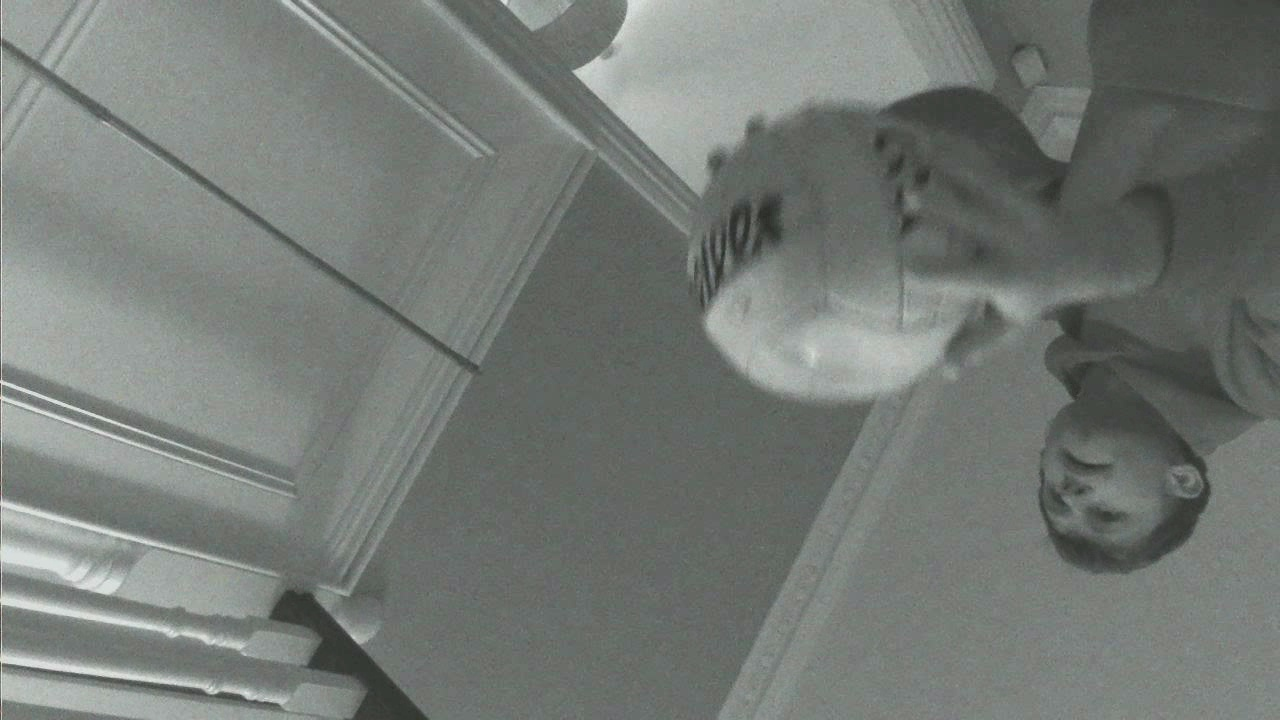Football-Spotter: (687, 106, 981, 402)
